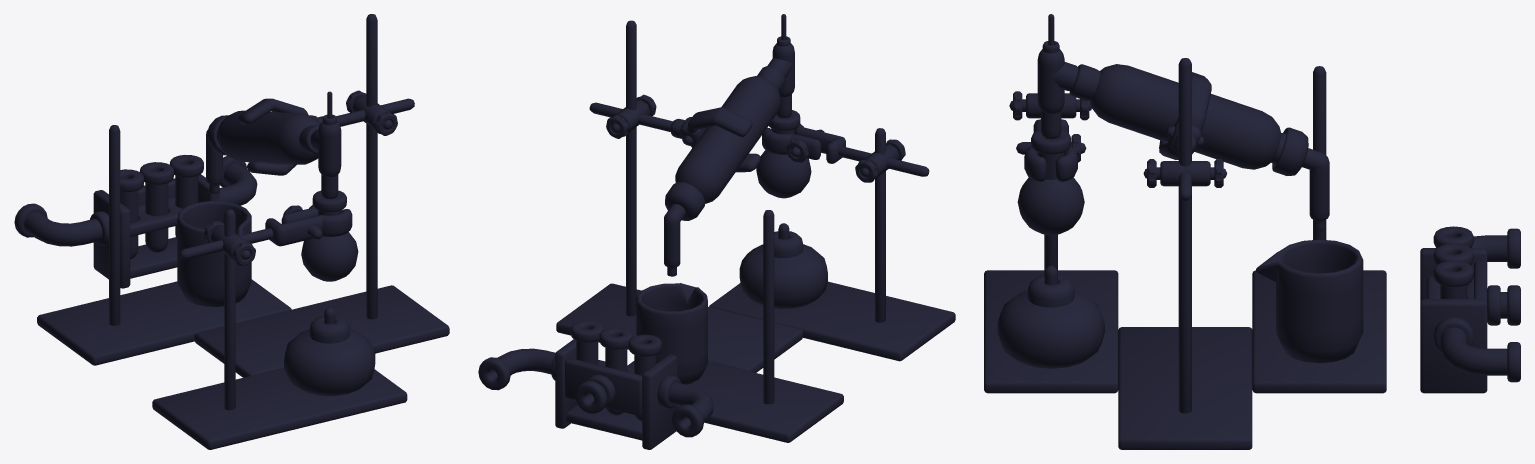
The model's file is Constructing_Distiller.fbx.
3 renders of one model, left to right at view 1: azimuth 30°, elevation 25°; view 2: azimuth 150°, elevation 25°; view 3: azimuth 270°, elevation 25°, orthographic. The views are drawn at different scales.
Visible parts, largest first — view 1: Stand_Base001; view 2: Stand_Base001; view 3: Stand_Base001.
Part boxes in pixels (box(x1,y1,x2,y2)): Stand_Base001: box(14, 14, 449, 449); Stand_Base001: box(478, 14, 955, 449); Stand_Base001: box(984, 14, 1520, 449).
Size of the model in its own units: 300 by 300 by 400.
